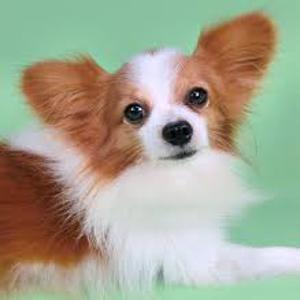yell: (0, 12, 299, 295)
